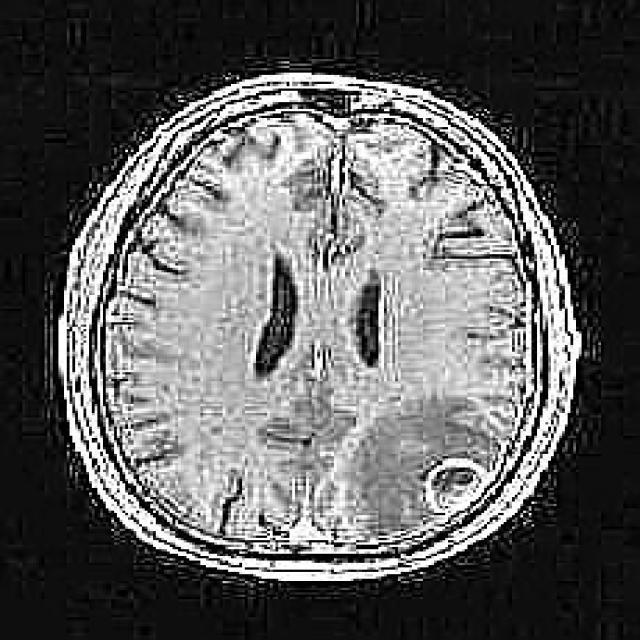notumor: (53, 73, 582, 574)
